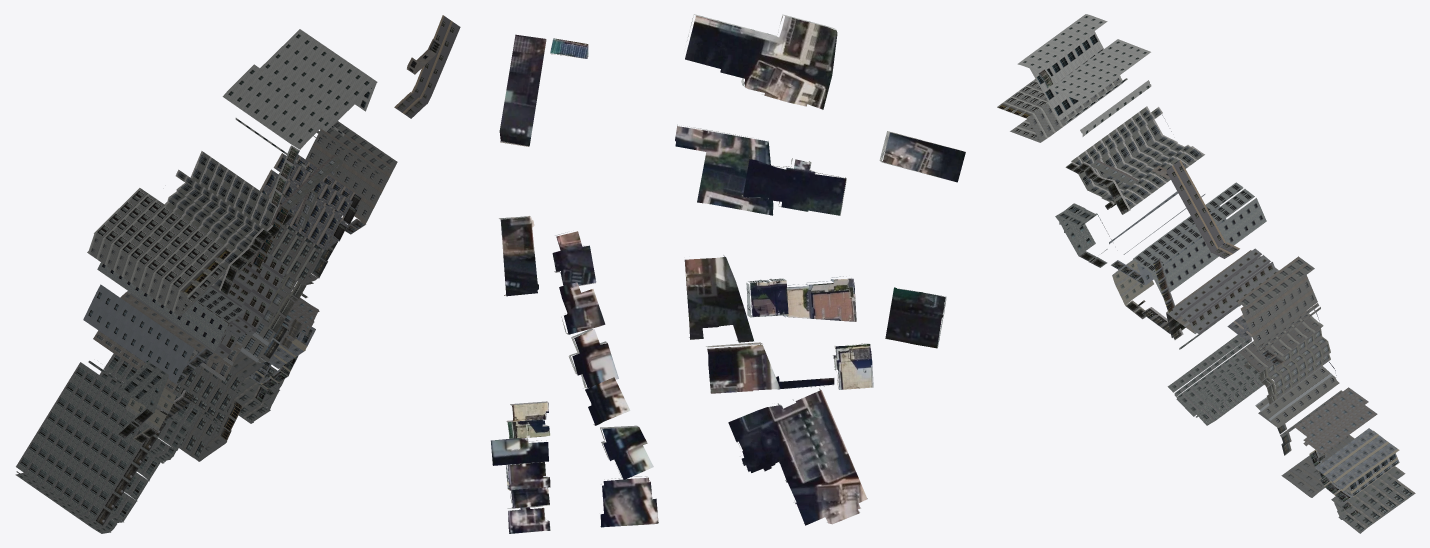
Rendered from tile_LOD4_r6_c11.glb.
3 views of the same model, side by side, from view 1: azimuth 30°, elevation 25°; view 2: azimuth 150°, elevation 25°; view 3: azimuth 270°, elevation 25° (orthographic). The views are drawn at different scales.
Bounding box in the file's own units: 153 × 168 × 144.
113 materials, 113 textured.
